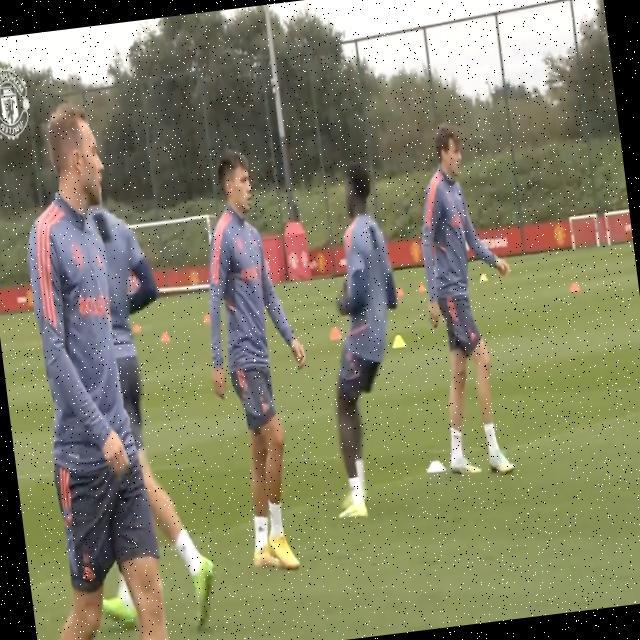Adidas: (80, 563, 95, 582), (255, 522, 266, 536)
